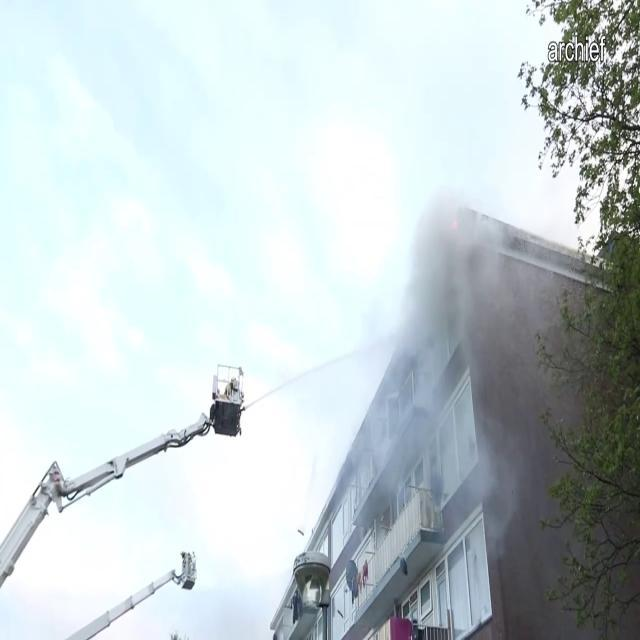Smoke: (292, 37, 592, 569)
